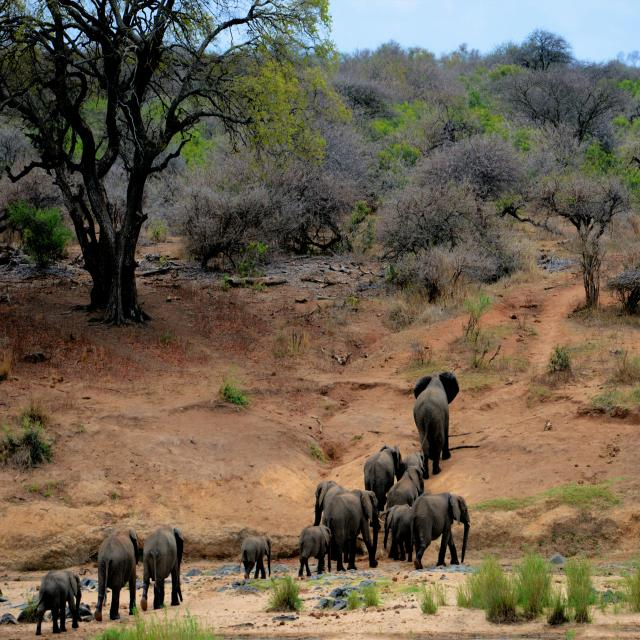Elephant: (322, 489, 384, 571), (413, 371, 460, 479), (409, 492, 471, 569), (96, 527, 140, 622), (141, 525, 185, 611), (312, 481, 353, 563), (364, 445, 403, 529), (36, 569, 83, 636), (387, 466, 426, 527), (298, 524, 332, 576), (384, 504, 414, 562), (239, 535, 272, 579), (400, 452, 426, 487)
